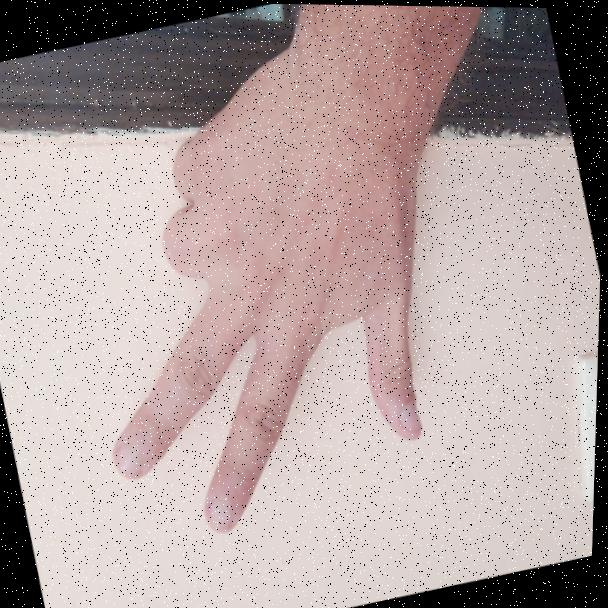three: (3, 0, 545, 584)
